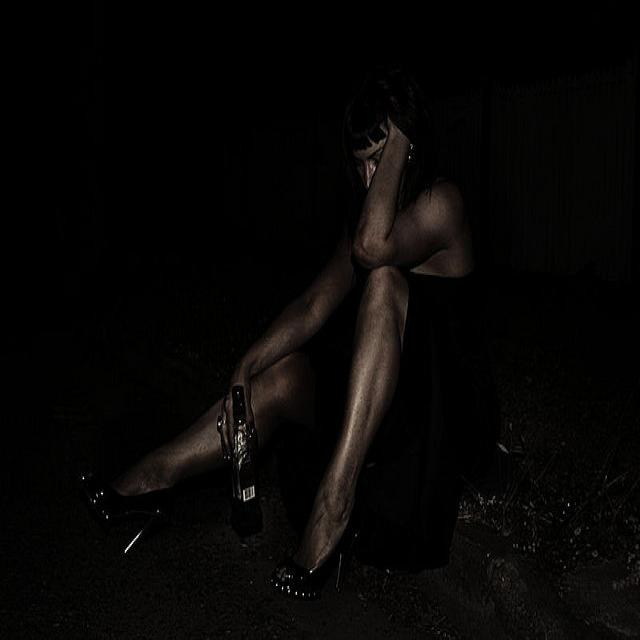Bottle: (206, 368, 274, 550)
People: (30, 35, 534, 622)
